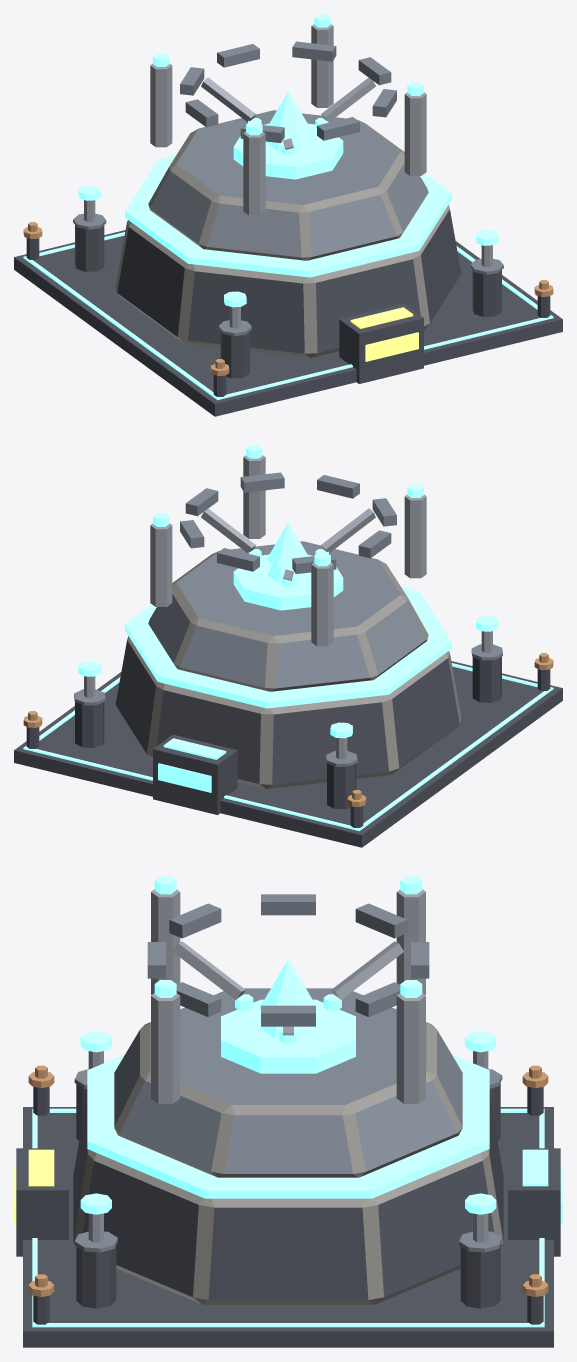
The model's file is montadora_sem_textura.glb.
The picture shows the model from 3 angles, top to bottom: view 1: azimuth 30°, elevation 25°; view 2: azimuth 150°, elevation 25°; view 3: azimuth 270°, elevation 25°; orthographic projection. The views are drawn at different scales.
Visible parts, largest first — view 1: montadora_corpo, montadora_antena, montadora_cristal, montadora_pistao0, montadora_pistao1, montadora_pistao2; view 2: montadora_corpo, montadora_antena, montadora_cristal, montadora_pistao1, montadora_pistao0, montadora_pistao3; view 3: montadora_corpo, montadora_antena, montadora_cristal, montadora_pistao2, montadora_pistao3, montadora_pistao0, montadora_pistao1.
Part boxes in pixels (<box>): montadora_corpo: <box>14,14,562,416</box>; montadora_antena: <box>180,41,396,155</box>; montadora_cristal: <box>267,91,310,151</box>; montadora_pistao0: <box>224,291,246,328</box>; montadora_pistao1: <box>78,185,100,221</box>; montadora_pistao2: <box>476,230,498,266</box>; montadora_corpo: <box>14,445,562,847</box>; montadora_antena: <box>180,472,396,586</box>; montadora_cristal: <box>266,522,309,582</box>; montadora_pistao1: <box>330,722,352,759</box>; montadora_pistao0: <box>476,616,498,652</box>; montadora_pistao3: <box>78,661,100,697</box>; montadora_corpo: <box>14,876,562,1347</box>; montadora_antena: <box>147,894,429,1043</box>; montadora_cristal: <box>259,959,317,1038</box>; montadora_pistao2: <box>80,1193,111,1242</box>; montadora_pistao3: <box>465,1193,496,1242</box>; montadora_pistao0: <box>80,1031,111,1069</box>; montadora_pistao1: <box>465,1031,496,1069</box>.
Bounding box in the file's own units: 2.9 × 1.83 × 3.
